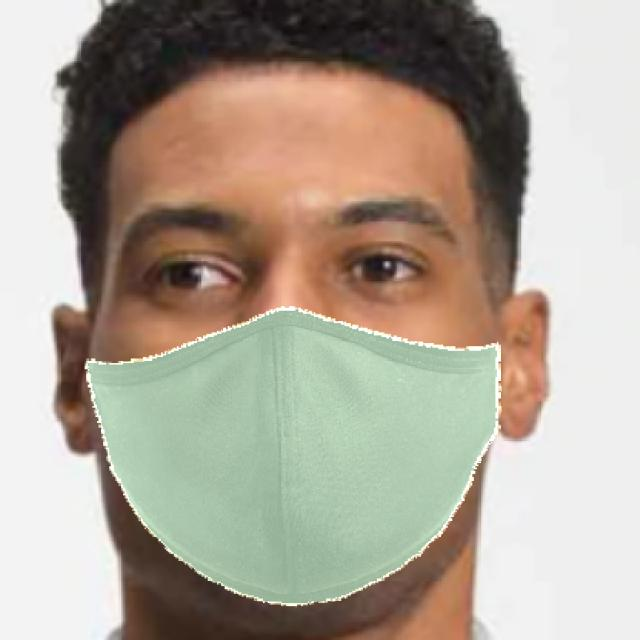mask: (64, 298, 530, 640)
